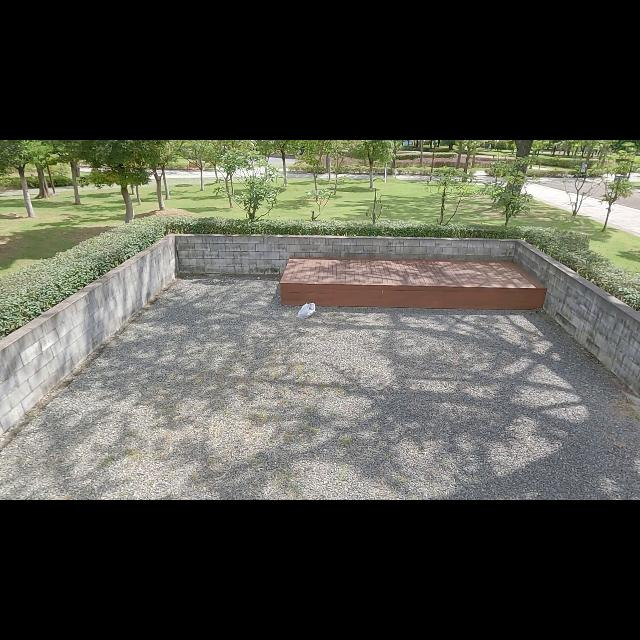trash: (298, 302, 318, 322)
